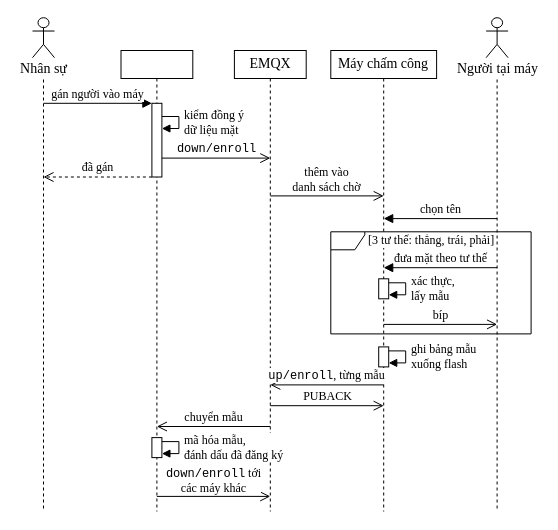
Some shapes in this 558 by 530 pixel diagram are drawn without their labels. The box of each missing label's shape, as (x1, y1, x2, y2) in pixels:
API: (120, 50, 193, 512)
loop: (330, 231, 531, 334)
